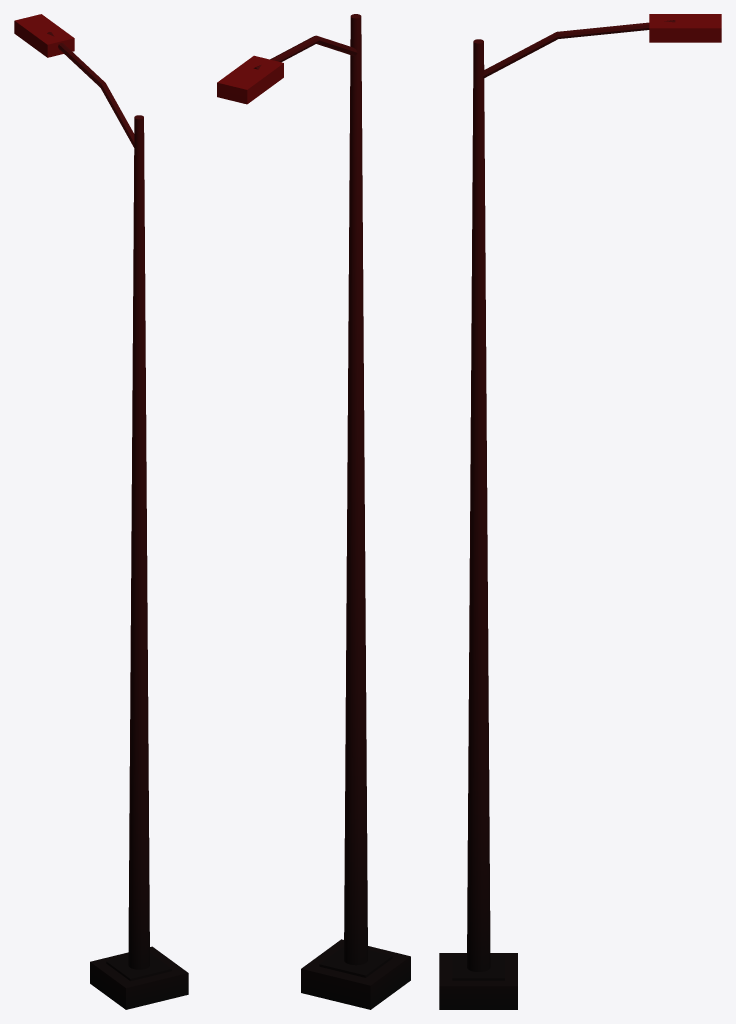
The model's file is den_duong.glb.
3 renders of one model, left to right at view 1: azimuth 30°, elevation 25°; view 2: azimuth 150°, elevation 25°; view 3: azimuth 270°, elevation 25°, orthographic. The views are drawn at different scales.
Visible parts, largest first — view 1: den_duong; view 2: den_duong; view 3: den_duong.
Boxes of the visible parts, bbox=[...] form: den_duong: bbox=[14, 14, 188, 1009]; den_duong: bbox=[217, 14, 410, 1009]; den_duong: bbox=[439, 14, 721, 1009].
Bounding box in the file's own units: 0.6 × 8.18 × 2.15.
